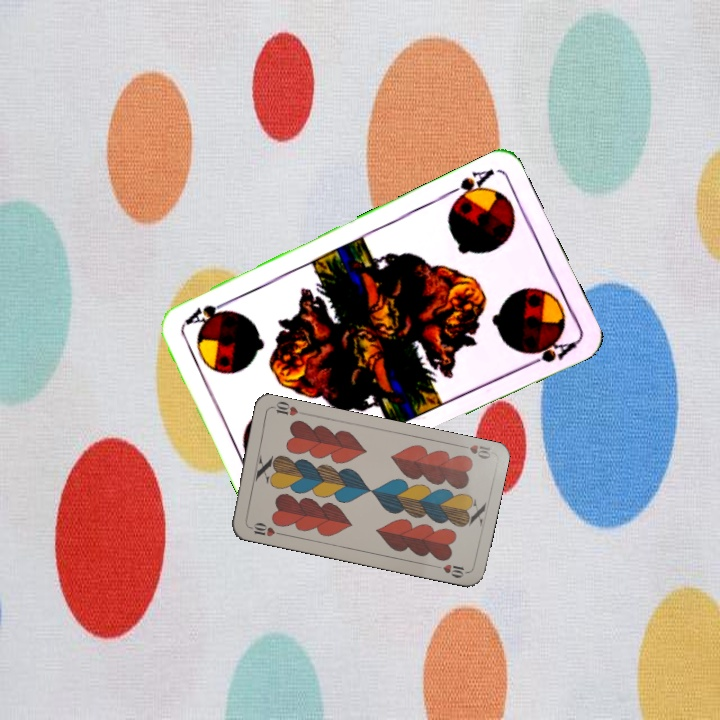H10: (454, 440, 493, 462), (244, 518, 284, 539)
SA: (441, 165, 497, 208)
